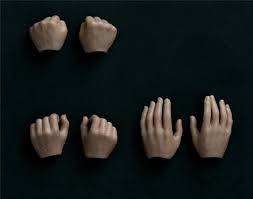hand: (189, 91, 236, 162), (136, 92, 183, 162), (80, 11, 133, 66), (24, 8, 76, 64), (26, 100, 71, 160), (74, 102, 118, 160)
